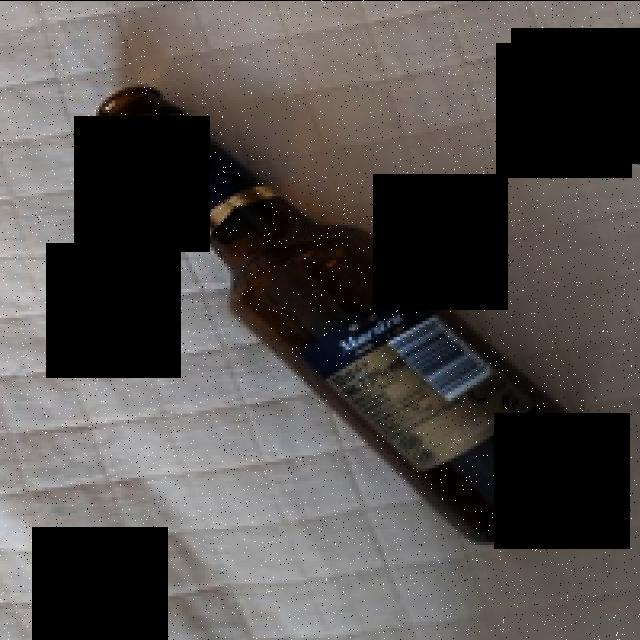glass-bottle: (83, 61, 640, 585)
